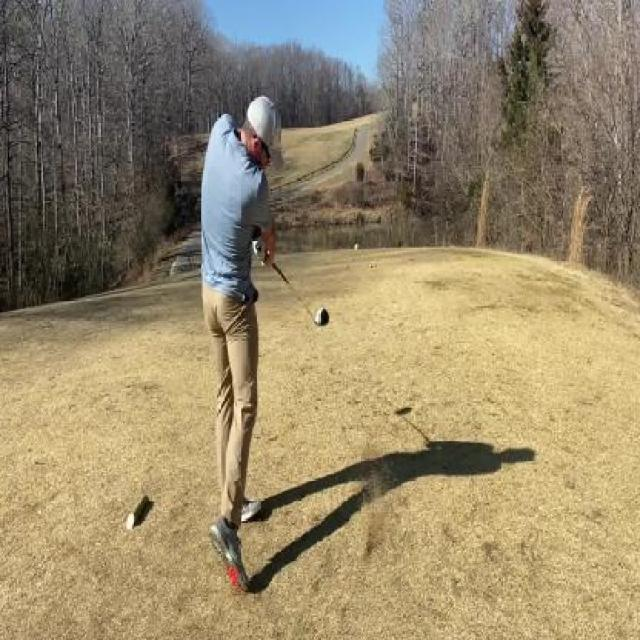club head: (309, 308, 329, 326)
